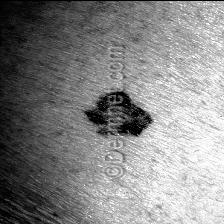Potentially Malignant Skin Tumors: (122, 84, 152, 138), (82, 91, 106, 134)
